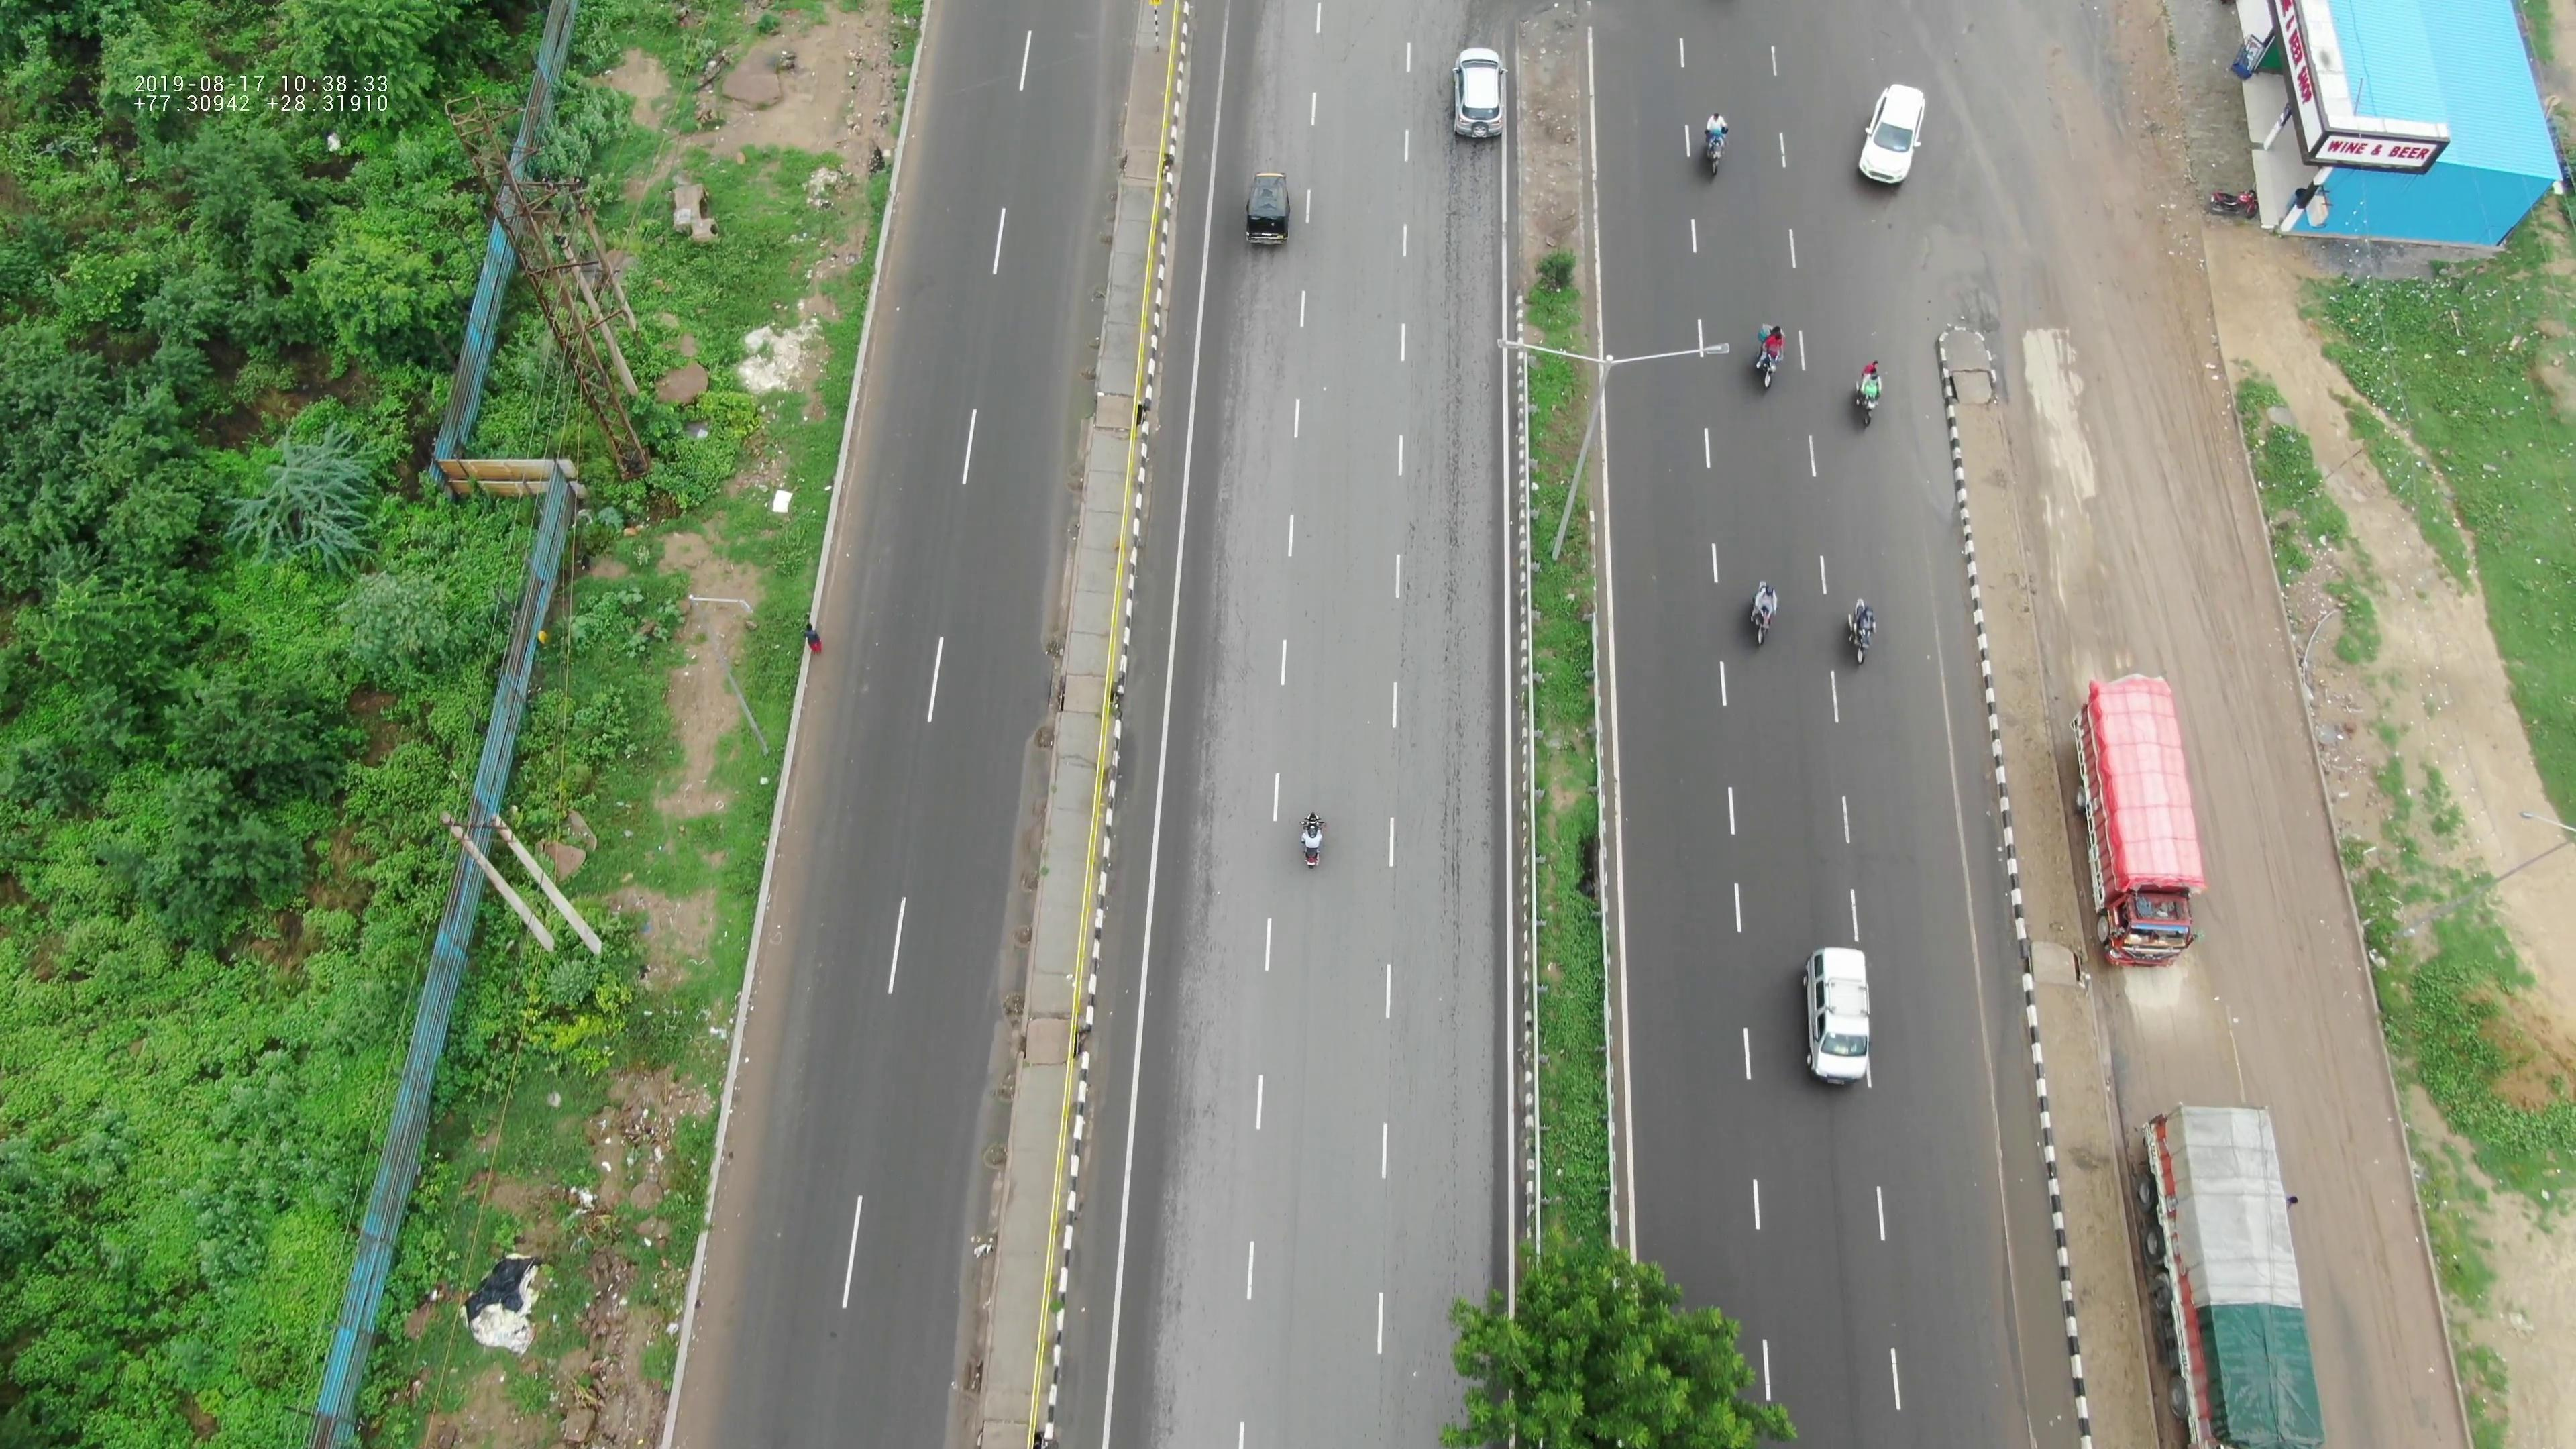Muddy_road: (2052, 37, 2217, 341), (2128, 382, 2279, 708), (2222, 750, 2351, 1023)
Potholes: (1911, 203, 2019, 315)
Ravelling: (1424, 292, 1486, 533), (1431, 571, 1479, 855)
